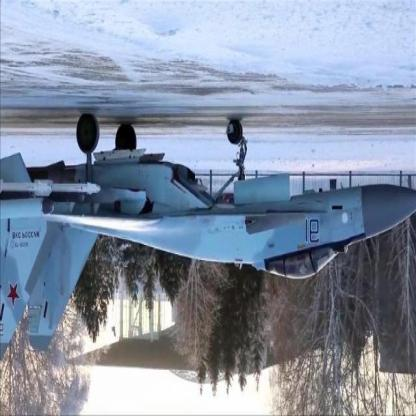MIL_TBM: (34, 177, 102, 197), (0, 180, 52, 195)
